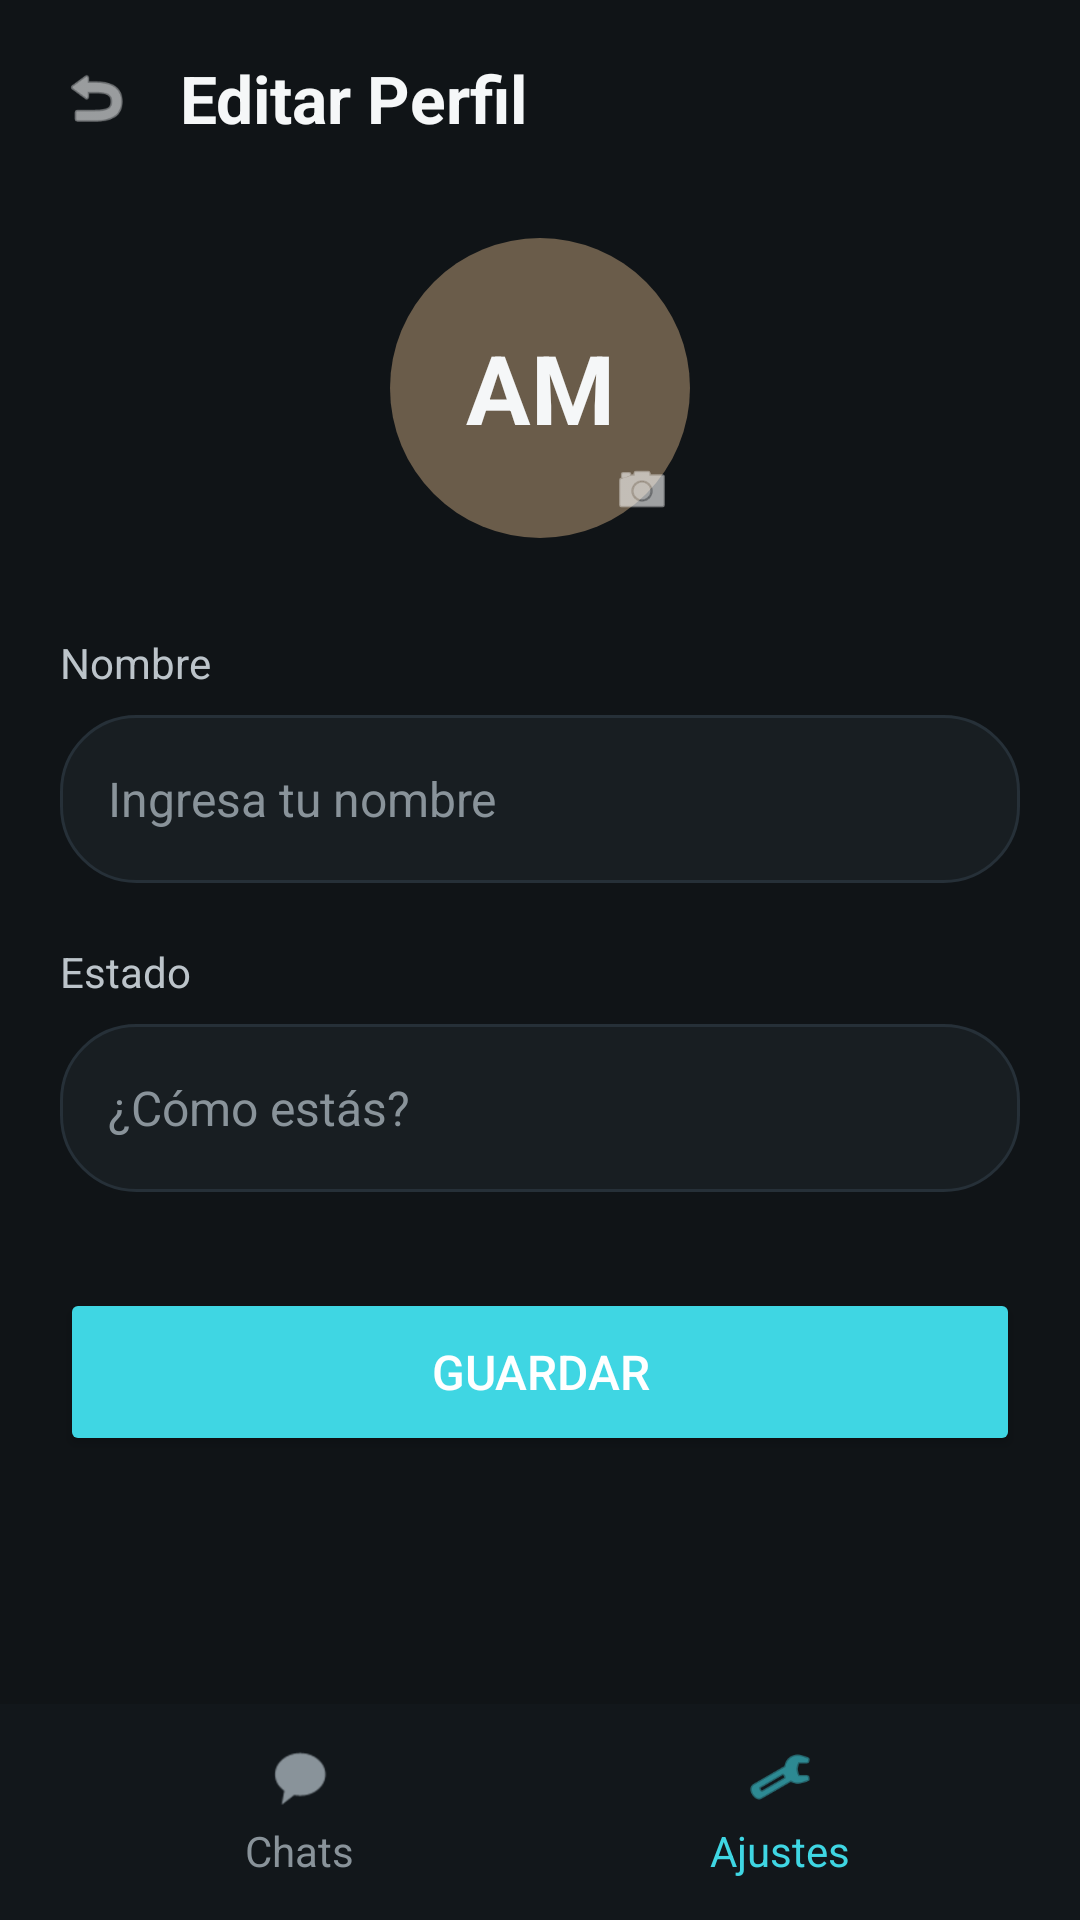

Icon bounding boxes for this 1080w x 1920h phone screenshot, format (x1, y1, x2, y2):
revert: (71, 75, 123, 122)
